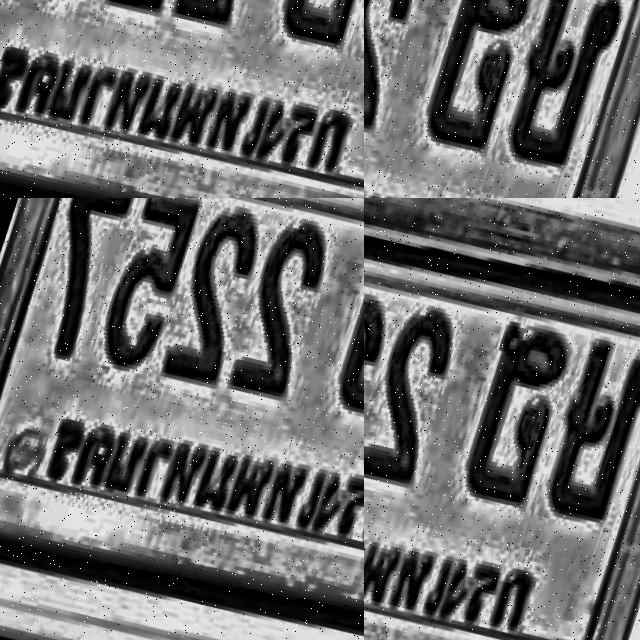license-plate: (0, 198, 364, 628), (364, 198, 640, 640), (0, 0, 364, 198), (466, 0, 640, 99)
